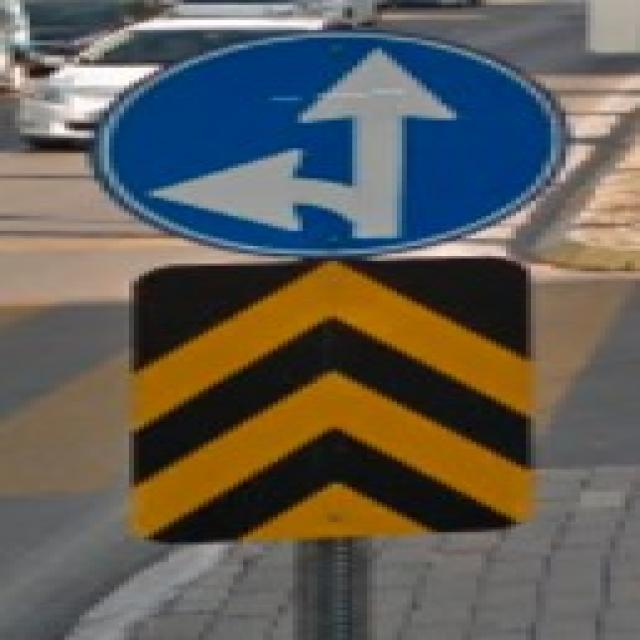Straight or Left: (93, 31, 564, 255)
